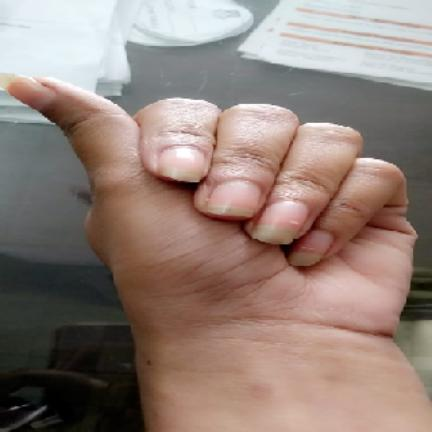Nail: (251, 201, 309, 244), (208, 180, 261, 217), (5, 76, 59, 111), (158, 146, 208, 182), (288, 230, 333, 266)
